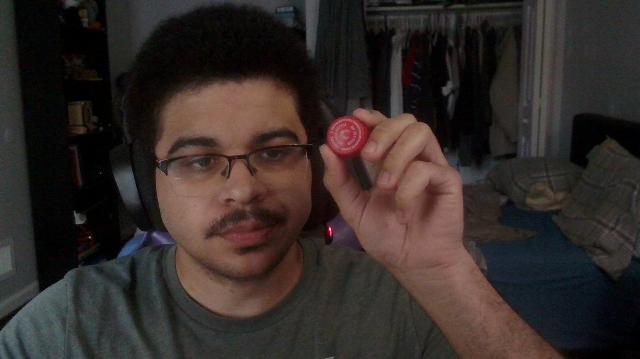cap: (326, 115, 370, 159)
